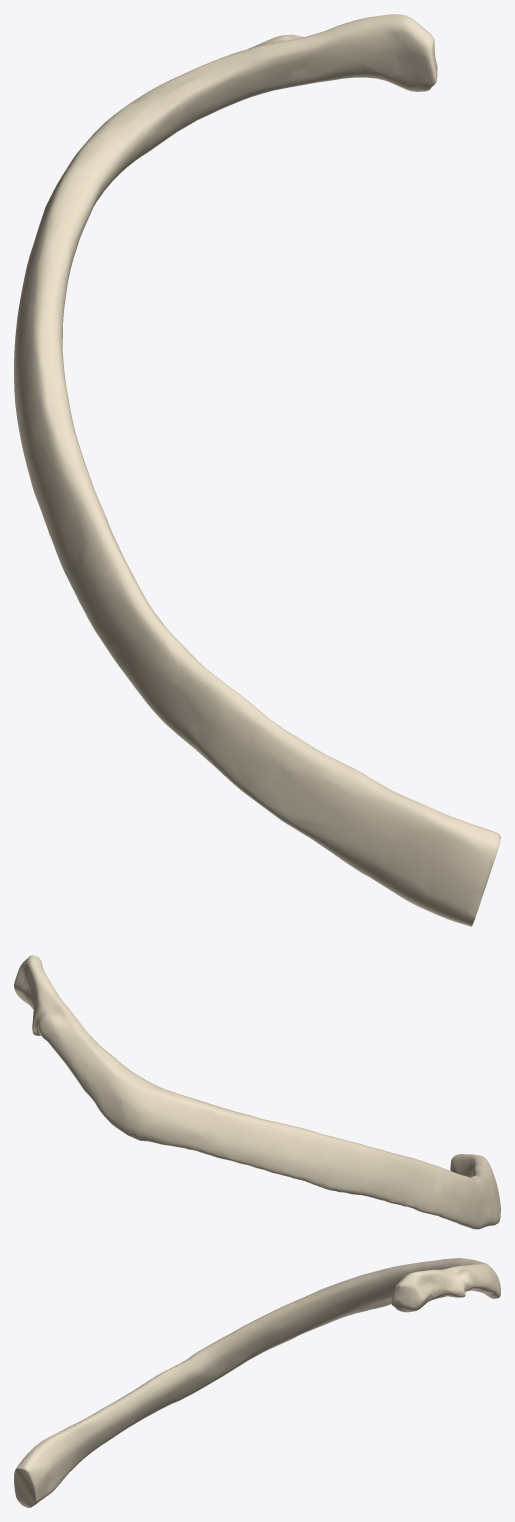
File: sixth-rib-r.glb
The picture shows the model from 3 angles, top to bottom: view 1: azimuth 30°, elevation 25°; view 2: azimuth 150°, elevation 25°; view 3: azimuth 270°, elevation 25°; orthographic projection. The views are drawn at different scales.
Visible parts, largest first — view 1: Sixth rib.r; view 2: Sixth rib.r; view 3: Sixth rib.r.
Boxes of the visible parts, bbox=[...] form: Sixth rib.r: bbox=[14, 14, 500, 926]; Sixth rib.r: bbox=[14, 955, 500, 1229]; Sixth rib.r: bbox=[14, 1258, 500, 1507].
Size of the model in its own units: 0.1231 by 0.1386 by 0.1962.
